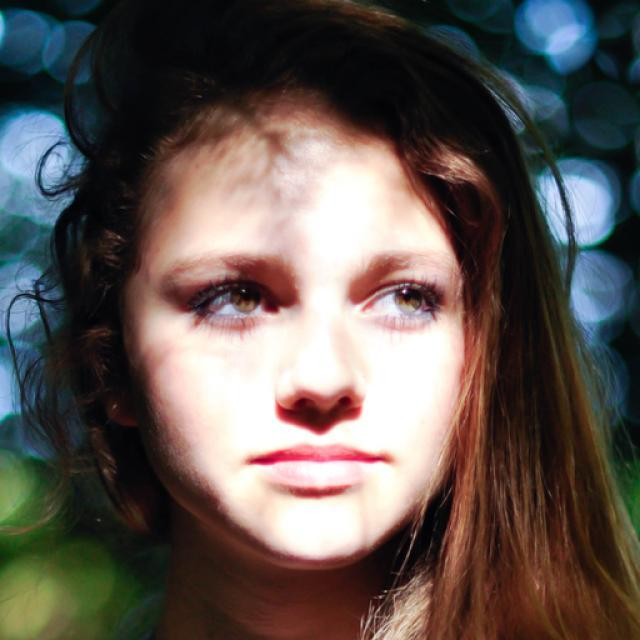sad: (125, 116, 470, 572)
